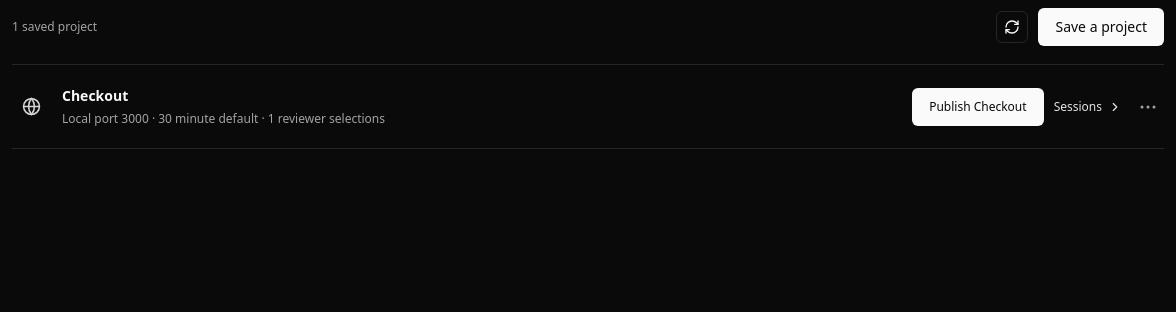
Test: Saved Beam projects › loads project sessions on demand beneath one project and requests history before pagination
The image size is (1176, 312).
expect the heading "Checkout" is shown: met, box [62,86,128,105]
Click the button with aria-label "Sessions for Checkout". click: x=1088, y=106
box: [1054,98,1122,116]
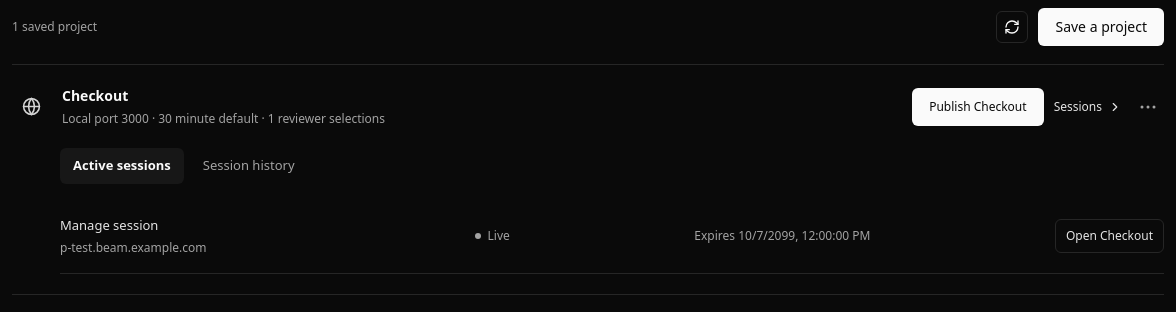
expect the number of headings "Checkout" is 1: met, box [62,86,128,105]
expect the link "Open Checkout" is shown: met, box [1055,219,1164,253]
Click the button "Session history". click: x=249, y=166
box: [190,148,308,184]
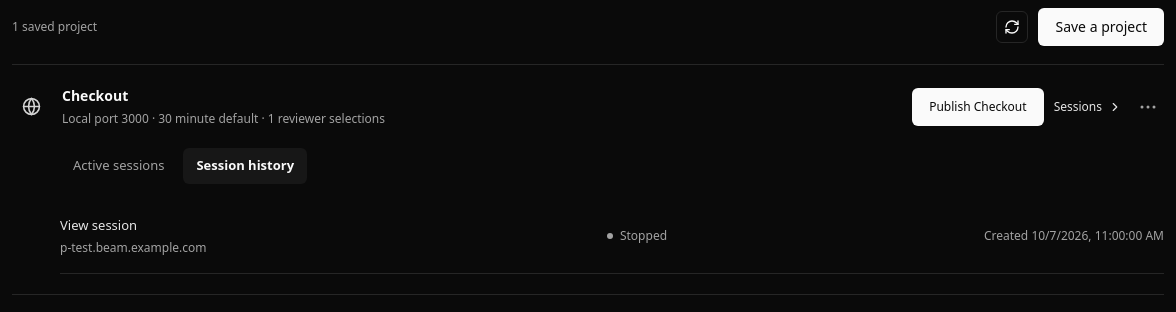
expect the number of headings "Checkout" is 1: met, box [62,86,128,105]
expect the text "Stopped" is shown: met, box [607,228,667,245]
expect the link "Open Checkout" is gone: met
